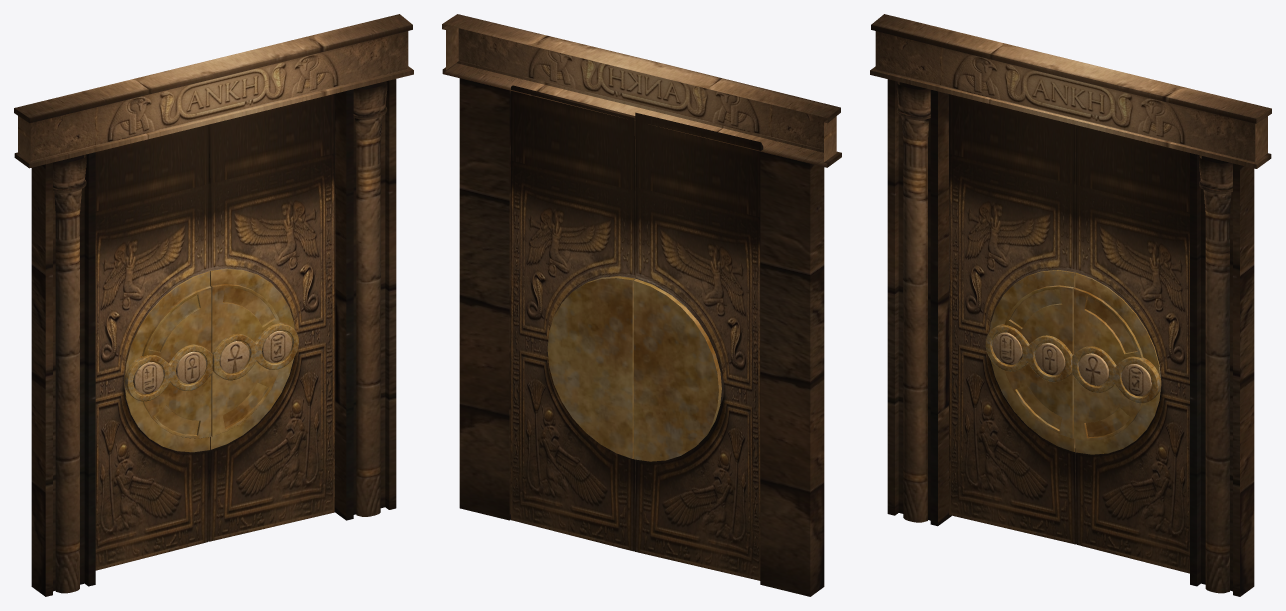
The model's file is Final Door.fbx.
3 renders of one model, left to right at view 1: azimuth 30°, elevation 25°; view 2: azimuth 150°, elevation 25°; view 3: azimuth 330°, elevation 25°, orthographic.
Parts seen in each view (by area): view 1: Plane.006, Plane.007, Plane.001, Plane, Plane.002, Plane.003, Plane.004, Plane.008, Plane.005, Plane.009; view 2: Plane.007, Plane.006, Plane.001, Plane; view 3: Plane.007, Plane.006, Plane.001, Plane, Plane.002, Plane.003, Plane.009, Plane.005, Plane.004, Plane.008.
Part boxes in pixels (<box>): Plane.006: <box>208,94,335,541</box>; Plane.007: <box>95,124,212,570</box>; Plane.001: <box>31,79,396,596</box>; Plane: <box>14,14,413,168</box>; Plane.002: <box>54,115,382,593</box>; Plane.003: <box>53,81,387,193</box>; Plane.004: <box>176,351,206,383</box>; Plane.008: <box>133,362,163,393</box>; Plane.005: <box>219,341,249,373</box>; Plane.009: <box>262,330,291,362</box>; Plane.007: <box>633,112,763,580</box>; Plane.006: <box>510,85,635,551</box>; Plane.001: <box>459,78,824,596</box>; Plane: <box>442,14,841,167</box>; Plane.007: <box>949,94,1076,544</box>; Plane.006: <box>1072,125,1189,573</box>; Plane.001: <box>887,79,1254,596</box>; Plane: <box>870,14,1271,168</box>; Plane.002: <box>901,116,1231,593</box>; Plane.003: <box>896,81,1232,194</box>; Plane.009: <box>1121,364,1152,395</box>; Plane.005: <box>1079,353,1108,385</box>; Plane.004: <box>1035,342,1065,375</box>; Plane.008: <box>992,332,1022,364</box>.
Size of the model in its own units: 355 by 425 by 32.09.
